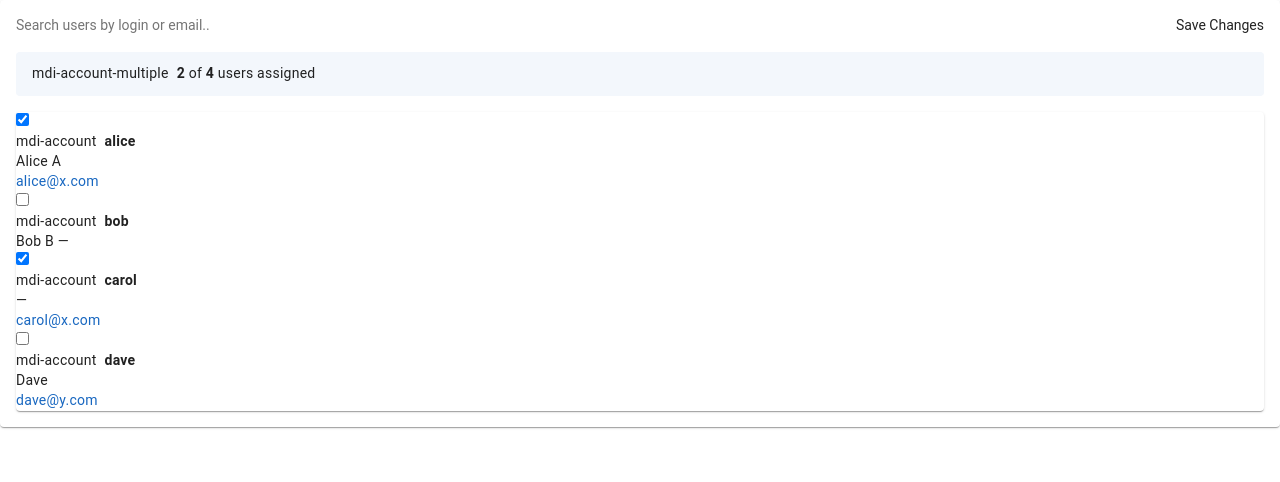
Test: RoleUsersTab interactions › shows an error when assignUserToRole returns false
Click the 2nd checkbox with class "stub-checkbox" at (22, 199), box left=16, top=193, right=29, bottom=206
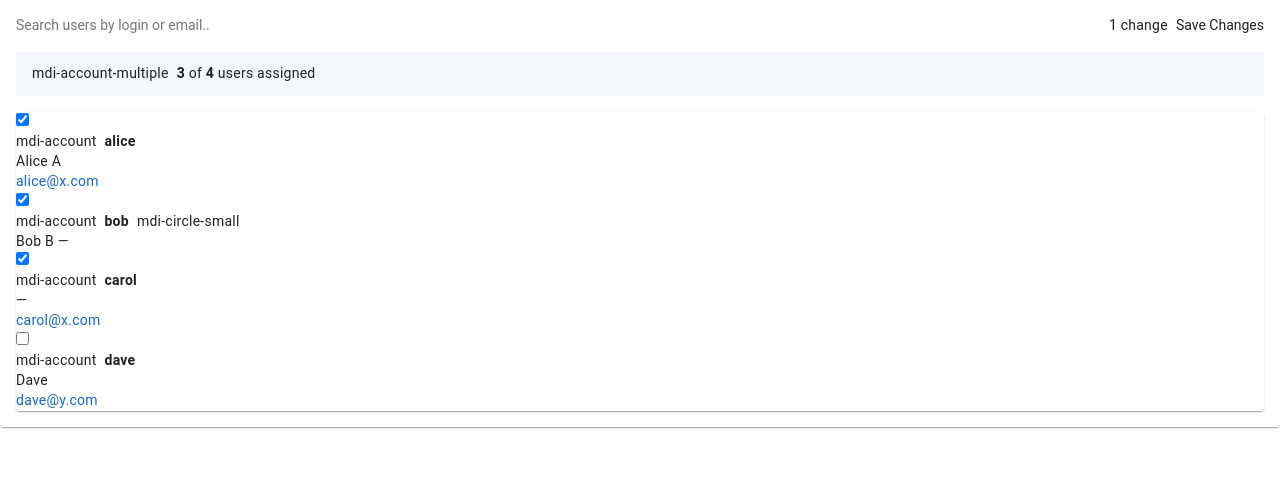
Click the button with class "stub-save-btn" at (1220, 26), box left=1176, top=16, right=1264, bottom=36
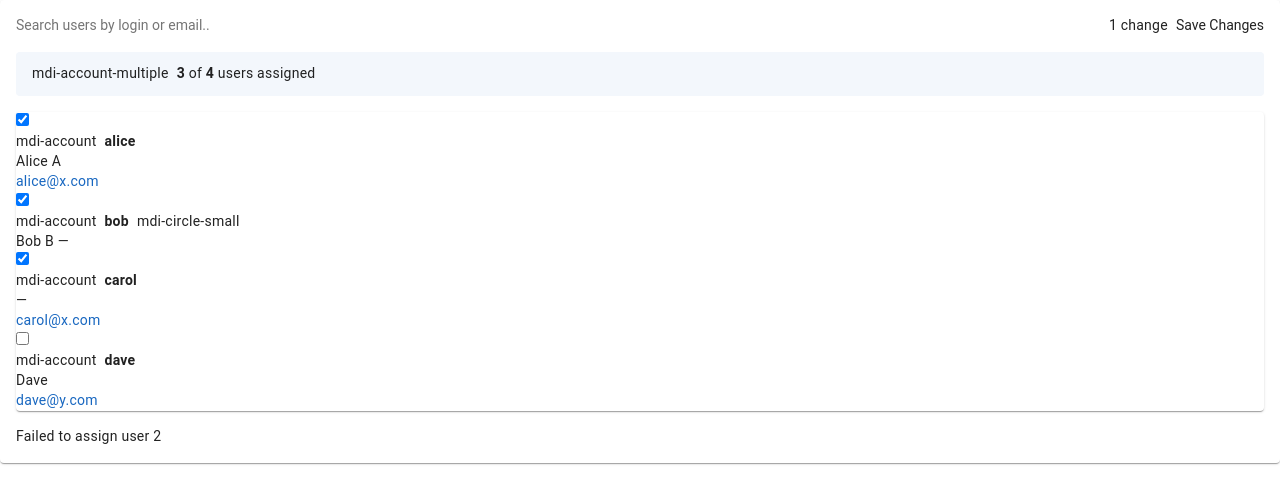
Result: the text "Failed to assign user 2" is shown at left=16, top=428, right=161, bottom=444
